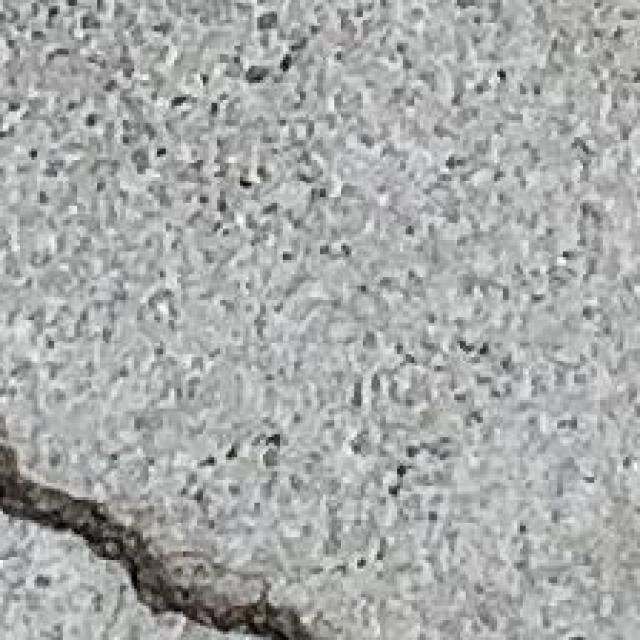Crack: (2, 411, 367, 640)
